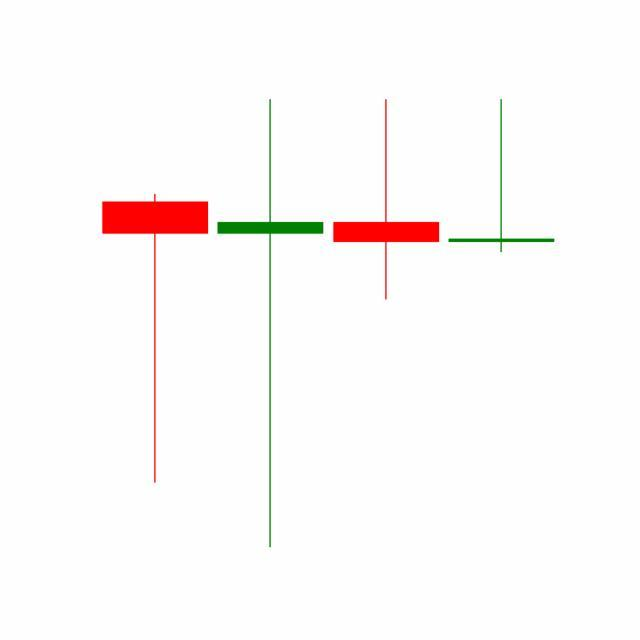Spinning Top: (329, 97, 445, 302)
